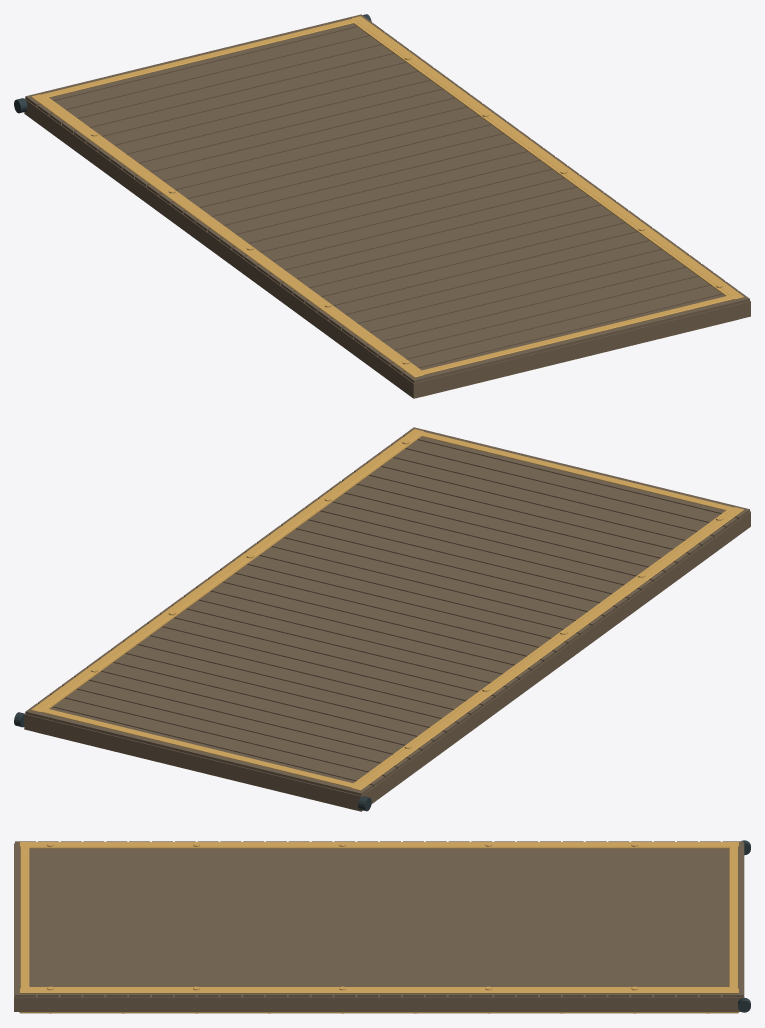
File: drawbridge.glb
The picture shows the model from 3 angles, top to bottom: view 1: azimuth 30°, elevation 25°; view 2: azimuth 150°, elevation 25°; view 3: azimuth 270°, elevation 25°; orthographic projection. The views are drawn at different scales.
Parts seen in each view (by area): view 1: NC.Export.Bridge.BridgeTimber, NC.Export.Bridge.PolishedBrass; view 2: NC.Export.Bridge.BridgeTimber, NC.Export.Bridge.PolishedBrass; view 3: NC.Export.Bridge.BridgeTimber, NC.Export.Bridge.PolishedBrass.
Part boxes in pixels (box(x1,y1,x2,y2)): NC.Export.Bridge.BridgeTimber: box(24, 14, 750, 398); NC.Export.Bridge.PolishedBrass: box(31, 16, 743, 396); NC.Export.Bridge.BridgeTimber: box(24, 427, 750, 811); NC.Export.Bridge.PolishedBrass: box(31, 429, 743, 809); NC.Export.Bridge.BridgeTimber: box(14, 841, 744, 1011); NC.Export.Bridge.PolishedBrass: box(19, 842, 738, 1013).
Size of the model in its own units: 10.4 by 0.749 by 20.18.
